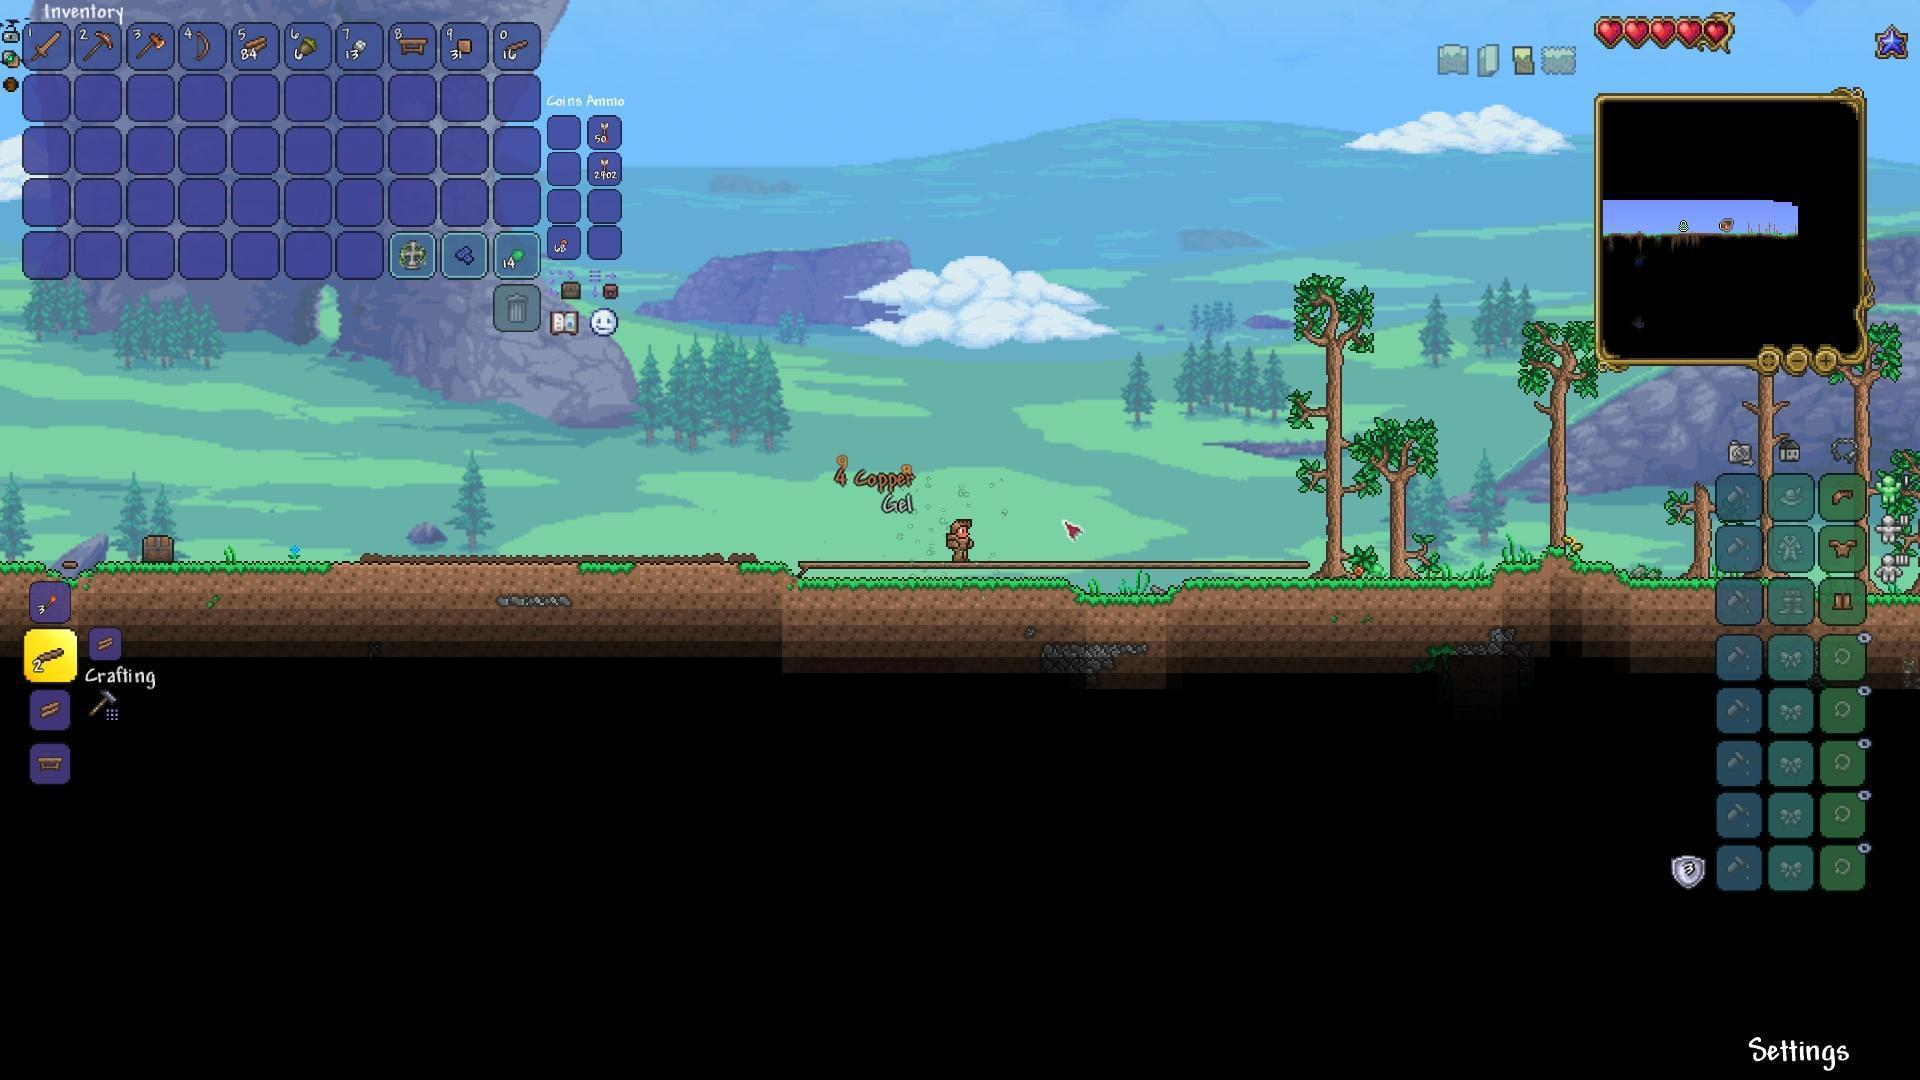breastplate: (1829, 537, 1858, 556)
helmet: (1826, 484, 1857, 510)
legs: (1830, 585, 1855, 615)
wood: (36, 695, 65, 721), (243, 34, 270, 61), (91, 633, 117, 657)
workbench: (393, 32, 430, 57), (36, 752, 66, 775)
